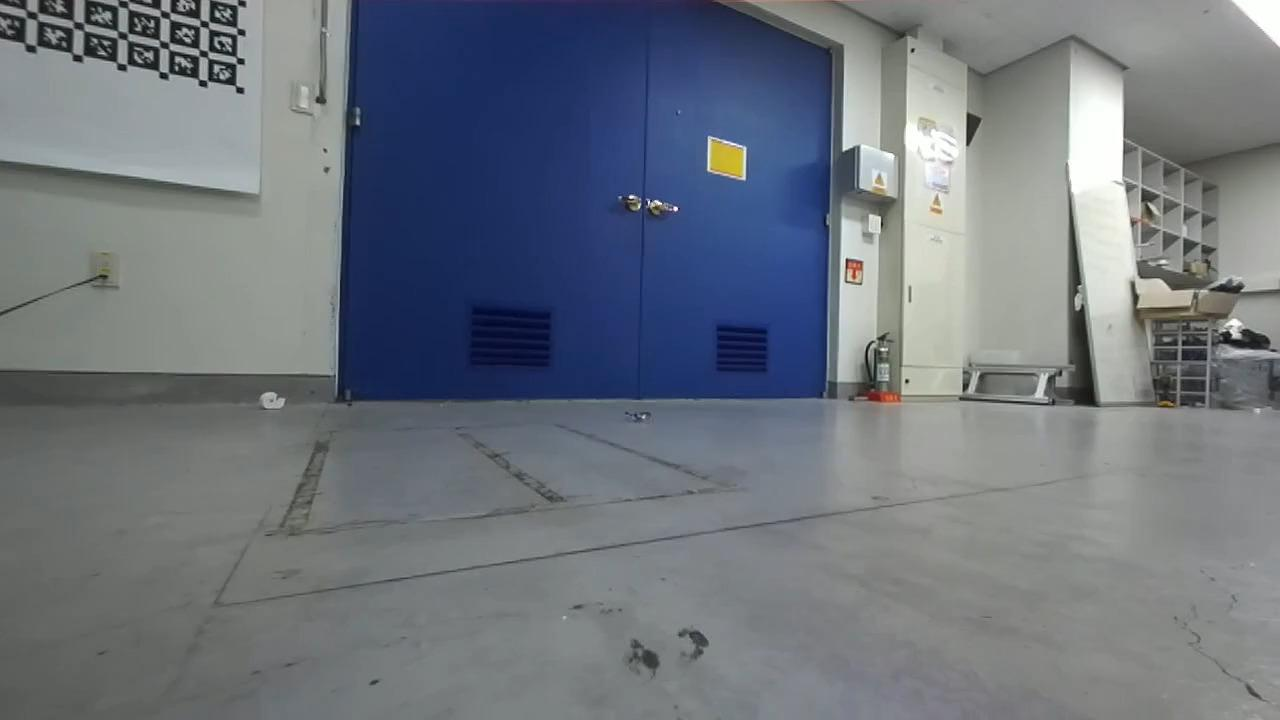crazyflie: (615, 403, 667, 430)
